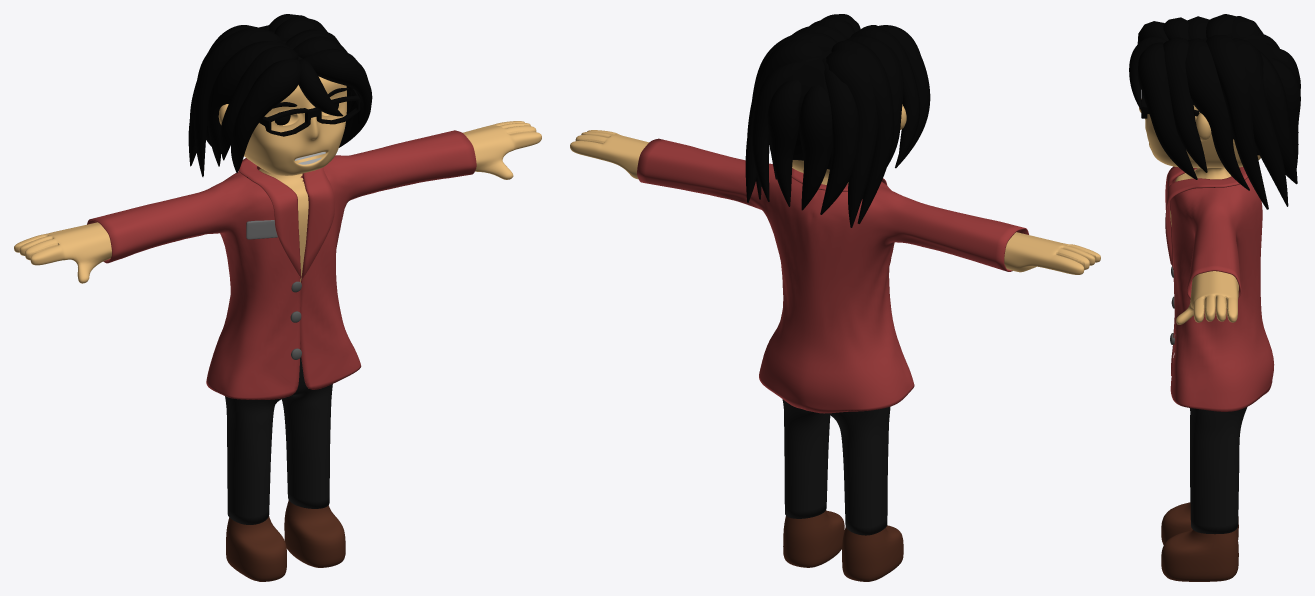
The model's file is PC-Female.fbx.
3 renders of one model, left to right at view 1: azimuth 30°, elevation 25°; view 2: azimuth 150°, elevation 25°; view 3: azimuth 270°, elevation 25°, orthographic.
Parts seen in each view (by area): view 1: Blazer; view 2: Blazer; view 3: Blazer.
Part boxes in pixels (bbox=[...]): Blazer: bbox=[14, 14, 541, 581]; Blazer: bbox=[570, 14, 1100, 581]; Blazer: bbox=[1129, 14, 1300, 581].
Size of the model in its own units: 426 by 422 by 123.
